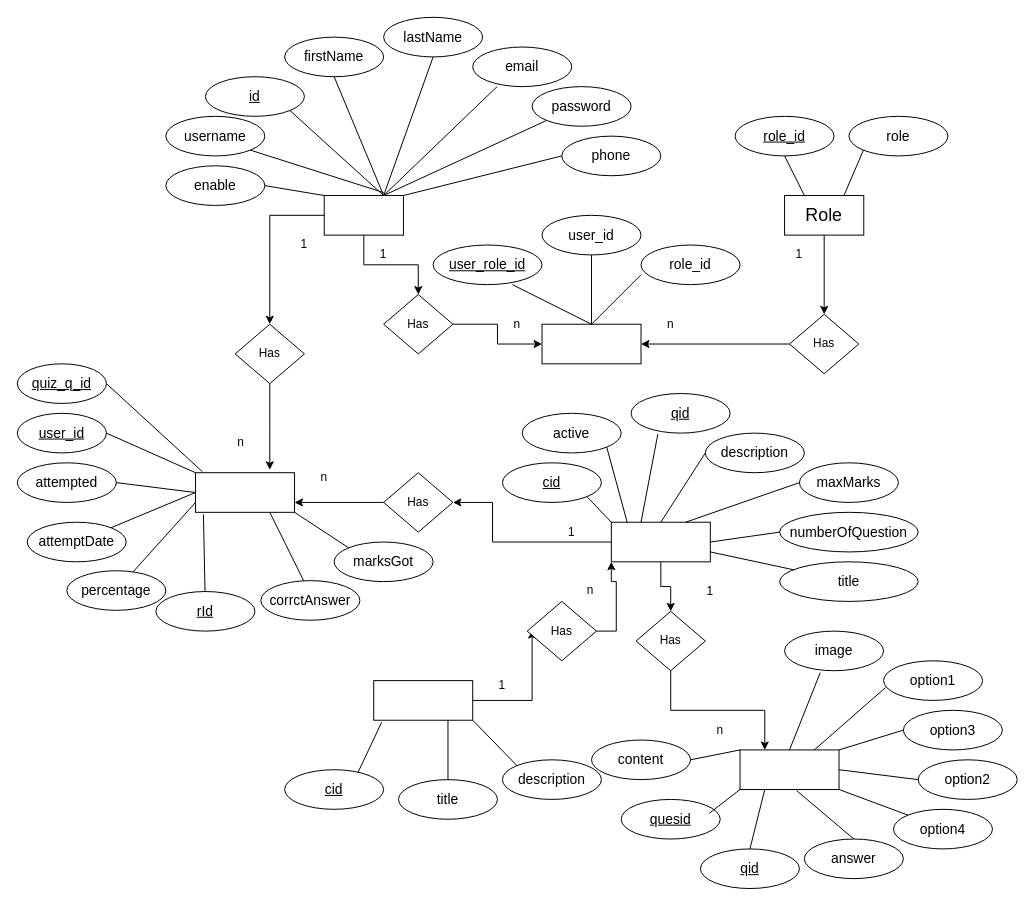
The diagram is 1035 pixels wide and 906 high, and some of its shapes have lost their labels. The centre of each missing label's shape, as x and y in pixels:
Category: (x=423, y=700)
Question: (x=789, y=769)
Quiz: (x=660, y=541)
Result: (x=245, y=492)
User: (x=363, y=215)
User_Role: (x=591, y=343)
